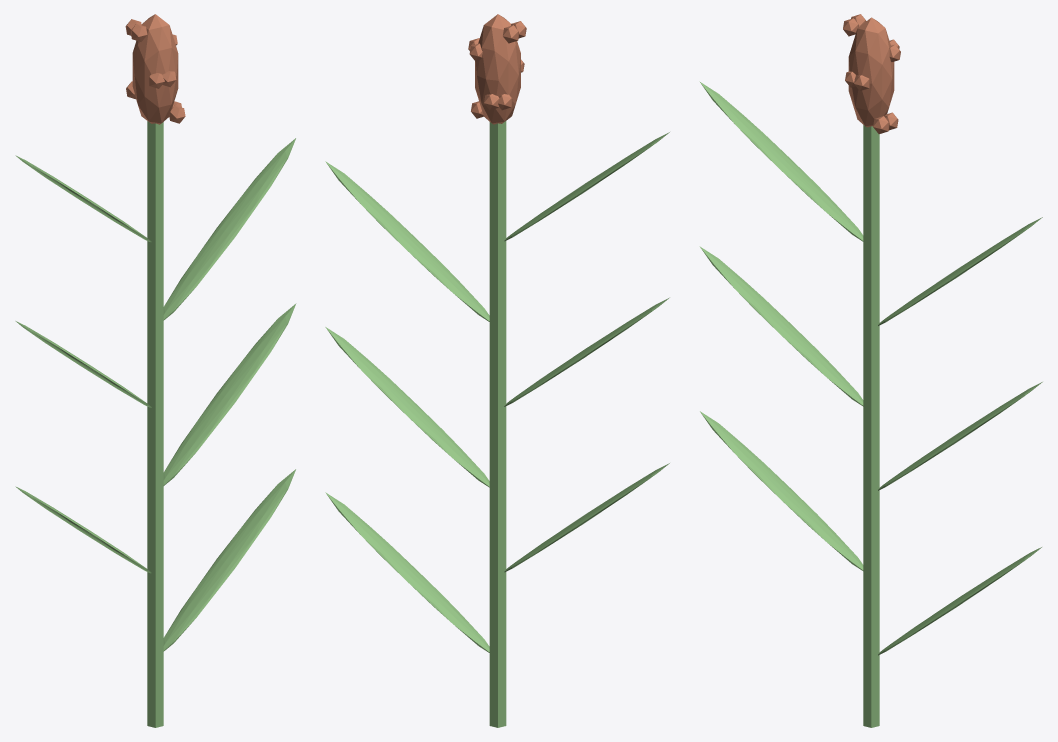
File: sorgo.glb
3 renders of one model, left to right at view 1: azimuth 30°, elevation 25°; view 2: azimuth 150°, elevation 25°; view 3: azimuth 330°, elevation 25°, orthographic.
Visible parts, largest first — view 1: verde, sorgo; view 2: verde, sorgo; view 3: verde, sorgo.
Part boxes in pixels (<box>): verde: <box>15,121,296,727</box>; sorgo: <box>125,14,185,124</box>; verde: <box>325,121,669,727</box>; sorgo: <box>468,14,526,124</box>; verde: <box>699,81,1042,727</box>; sorgo: <box>843,14,900,134</box>.
Size of the model in its own units: 0.7544 by 1.63 by 0.1517.
